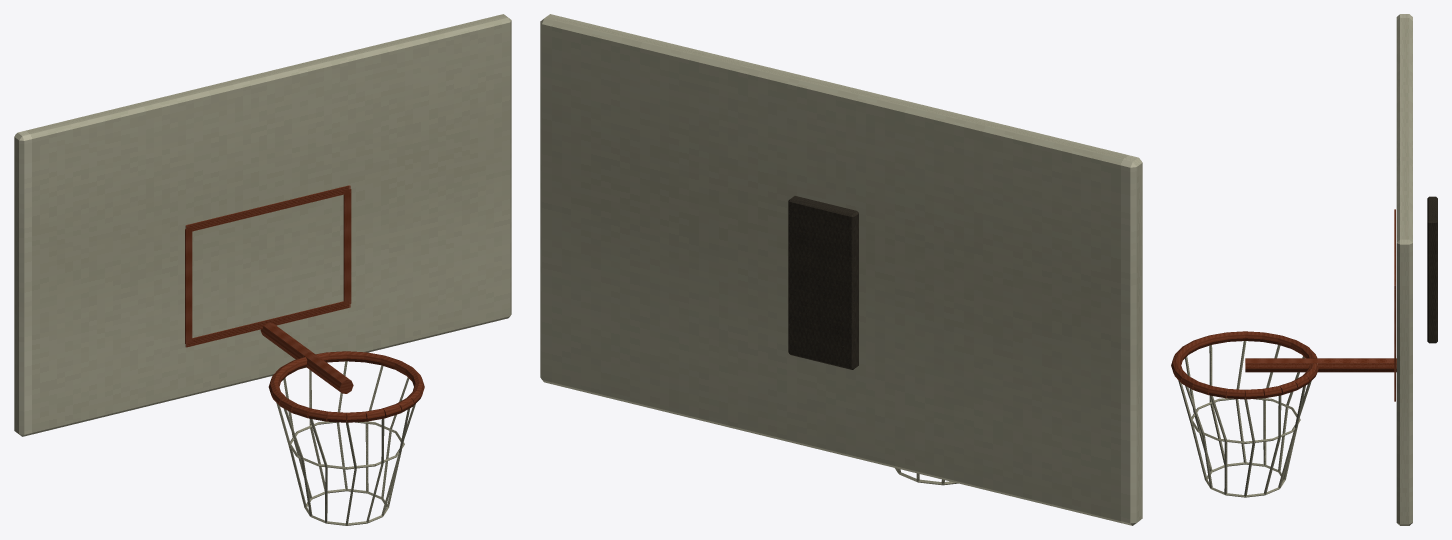
File: level_basketball_hoop.glb
3 views of the same model, side by side, from view 1: azimuth 30°, elevation 25°; view 2: azimuth 150°, elevation 25°; view 3: azimuth 270°, elevation 25° (orthographic). The views are drawn at different scales.
Visible parts, largest first — view 1: level_basketball_hoop; view 2: level_basketball_hoop; view 3: level_basketball_hoop.
Boxes of the visible parts, x1=… form: level_basketball_hoop: x1=14, y1=14, x2=511, y2=525; level_basketball_hoop: x1=540, y1=14, x2=1142, y2=525; level_basketball_hoop: x1=1171, y1=14, x2=1437, y2=525.
Size of the model in its own units: 1.8 by 1.3 by 0.8869.
4 materials, 4 textured.
